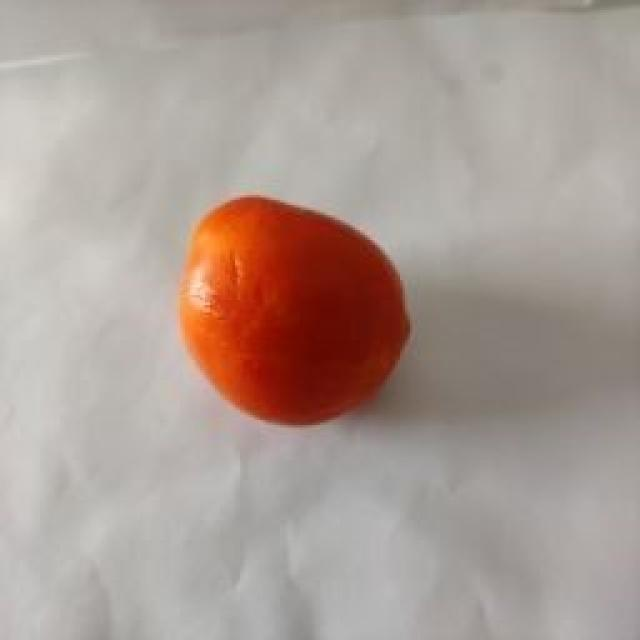Ripe: (168, 200, 428, 430)
